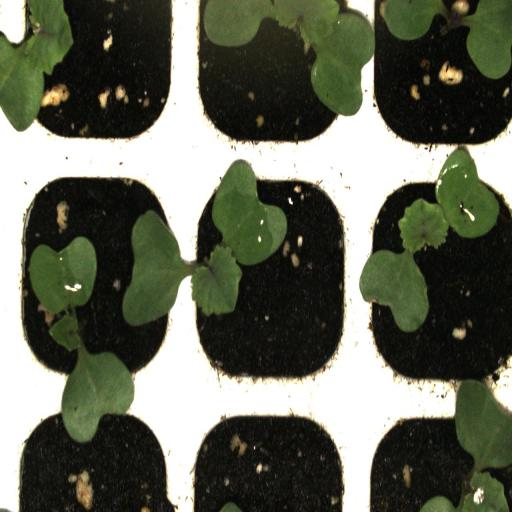Folha: (420, 379, 512, 512), (0, 0, 74, 132), (464, 0, 512, 80), (383, 0, 444, 41)
Germinacao: (178, 160, 358, 396), (6, 156, 181, 397), (358, 161, 512, 397), (184, 0, 362, 160)
